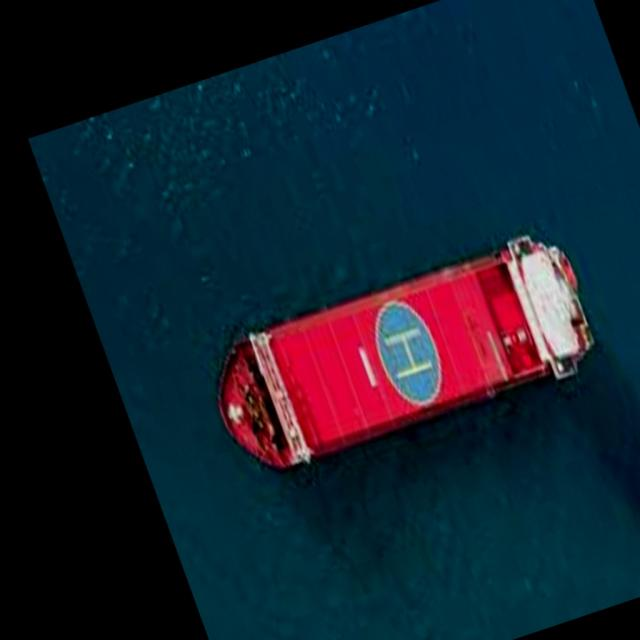helipad: (370, 296, 448, 408)
